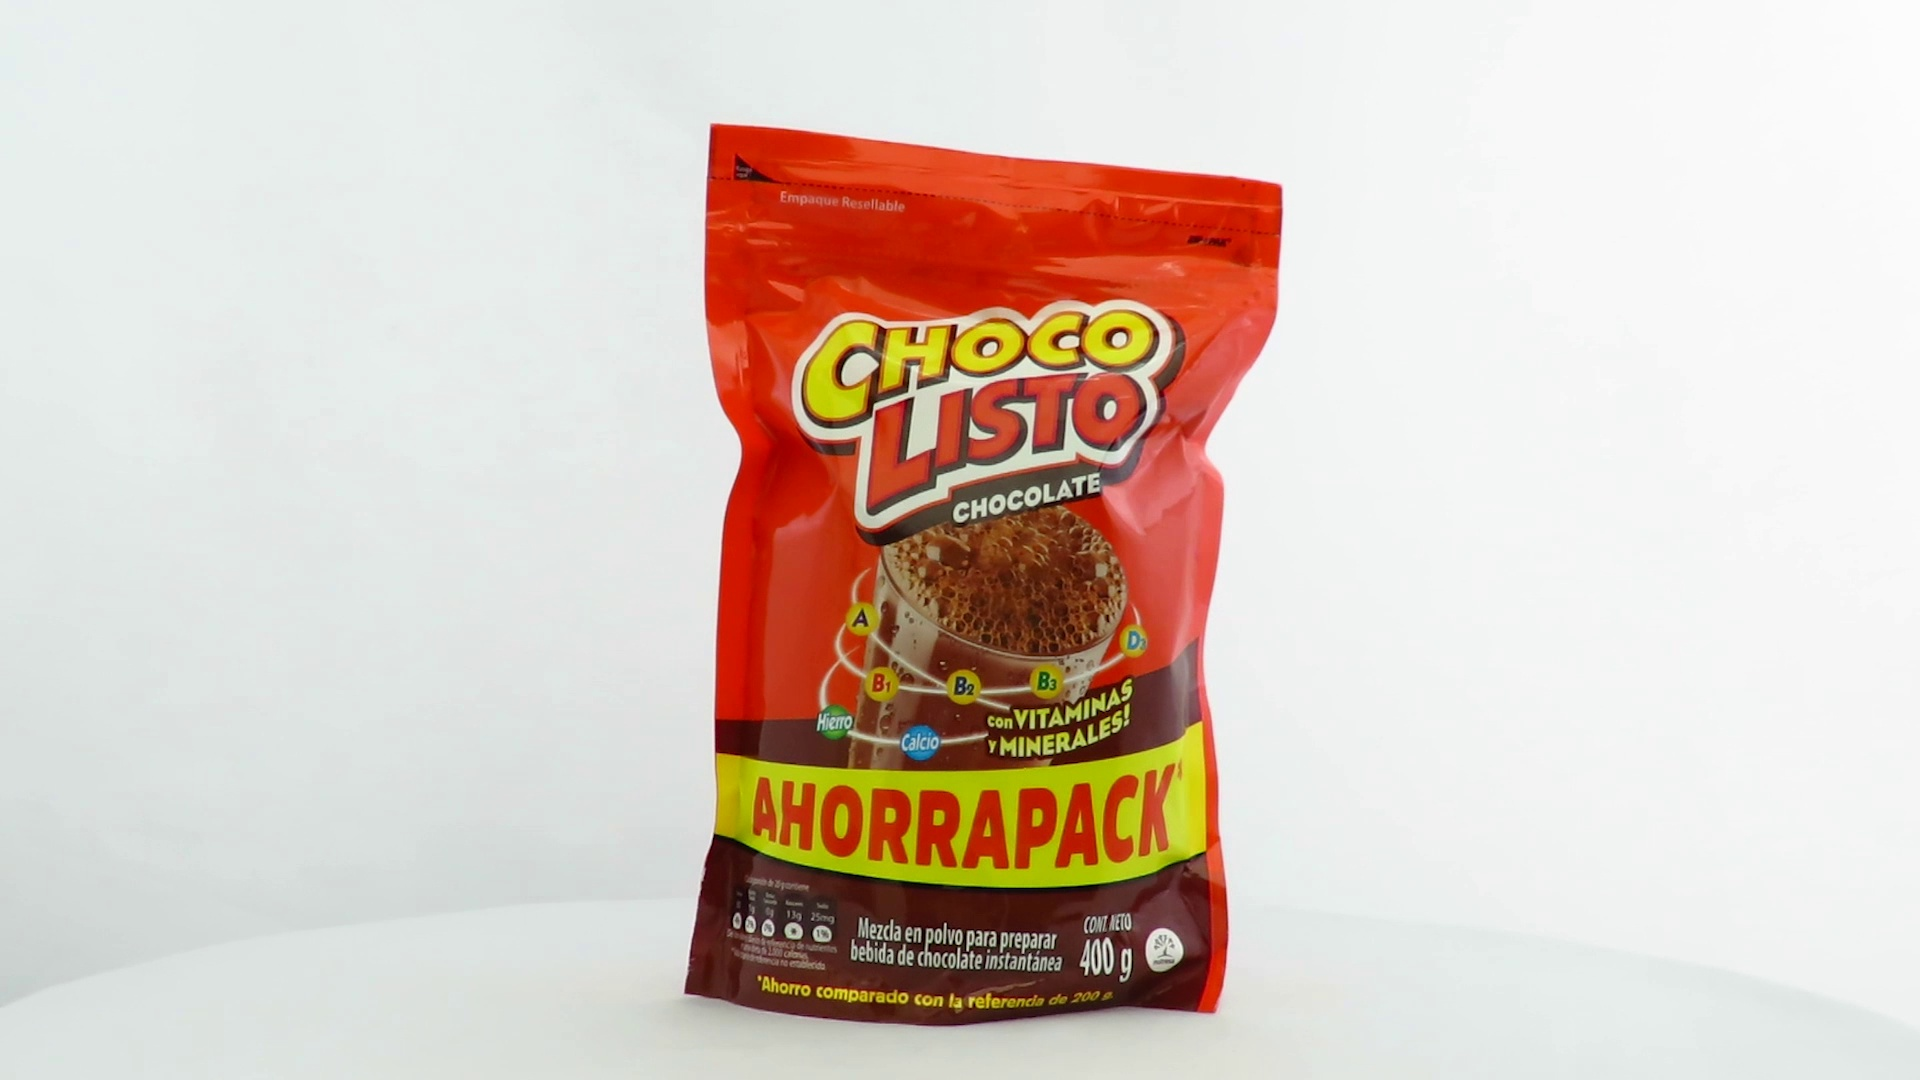COL0170103DYP40000: (679, 117, 1288, 1033)
